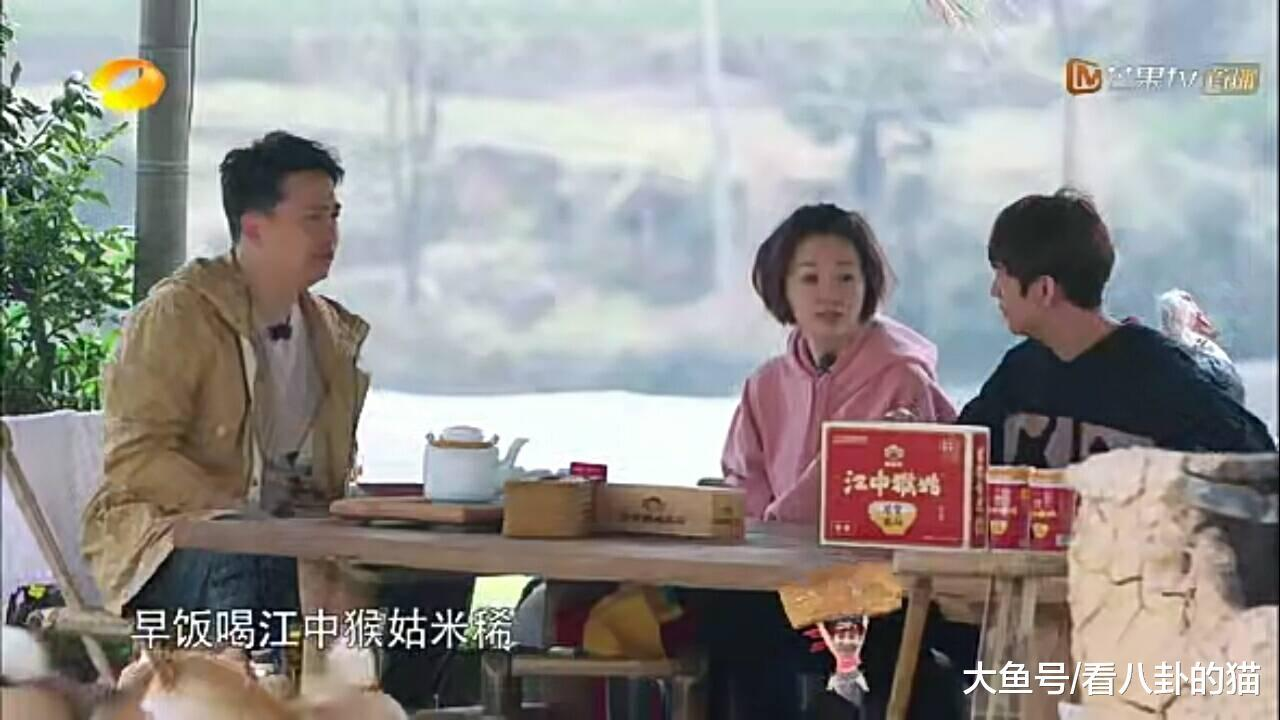box: (815, 415, 990, 553)
cup: (987, 463, 1032, 546), (1030, 468, 1076, 549)
